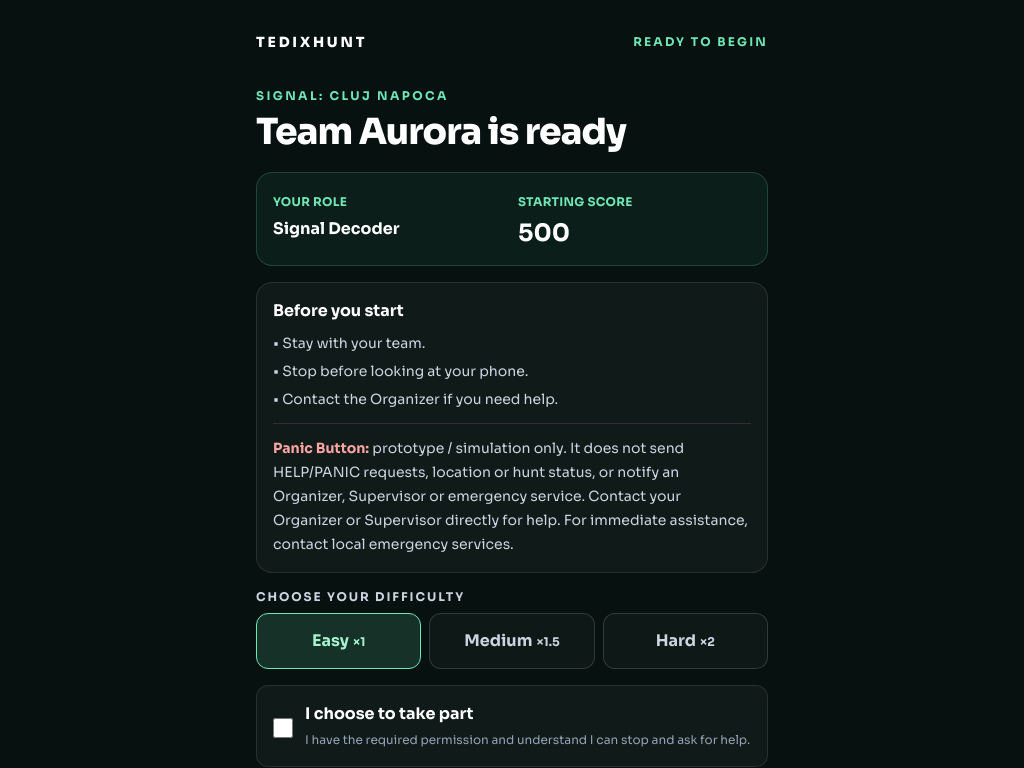
Scenario: readiness gives truthful guidance and still starts the chosen difficulty
Click the button "Hard×2": {"x": 685, "y": 641} [603,613,768,669]
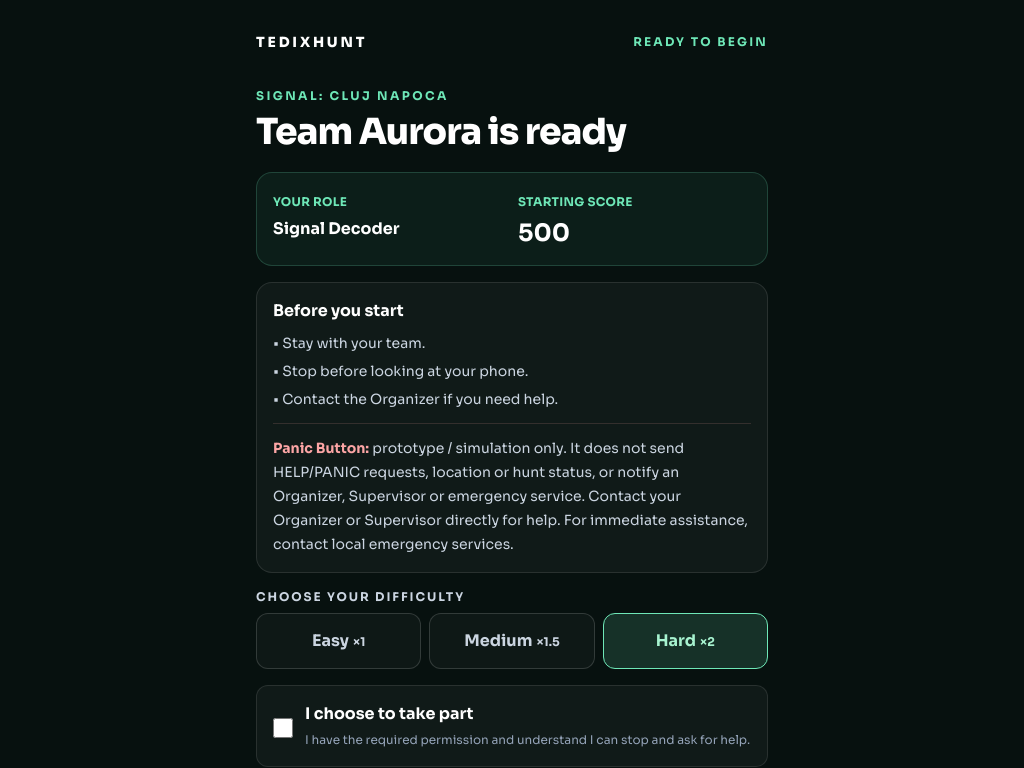
Click the checkbox: {"x": 283, "y": 728} [273,706,293,750]
(page scrolled)
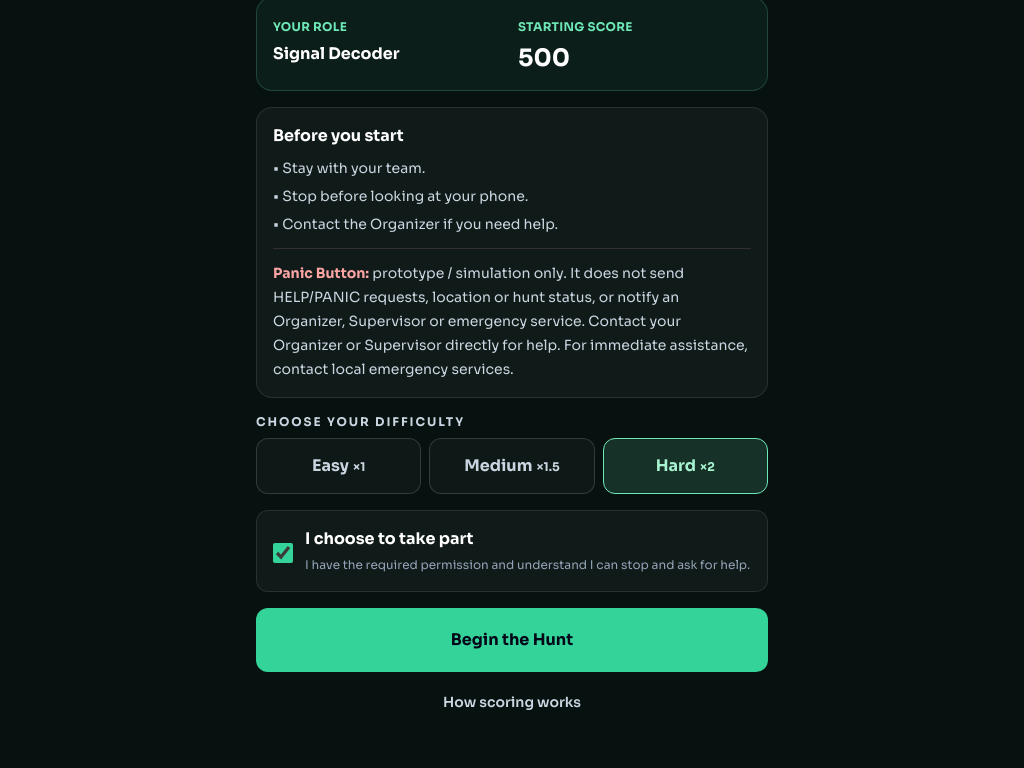
Click the button "Begin the Hunt": {"x": 512, "y": 640} [256,608,768,672]
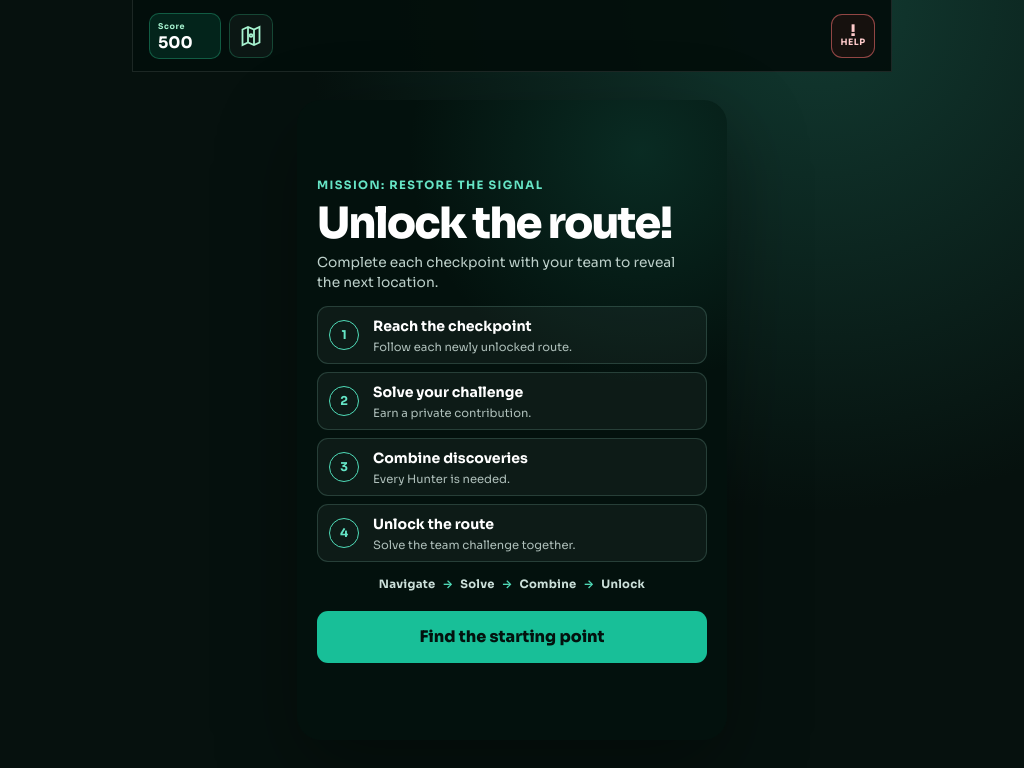
Expected: the button "! Help" is shown
Click the button "! Help": {"x": 853, "y": 36} [831,14,875,58]
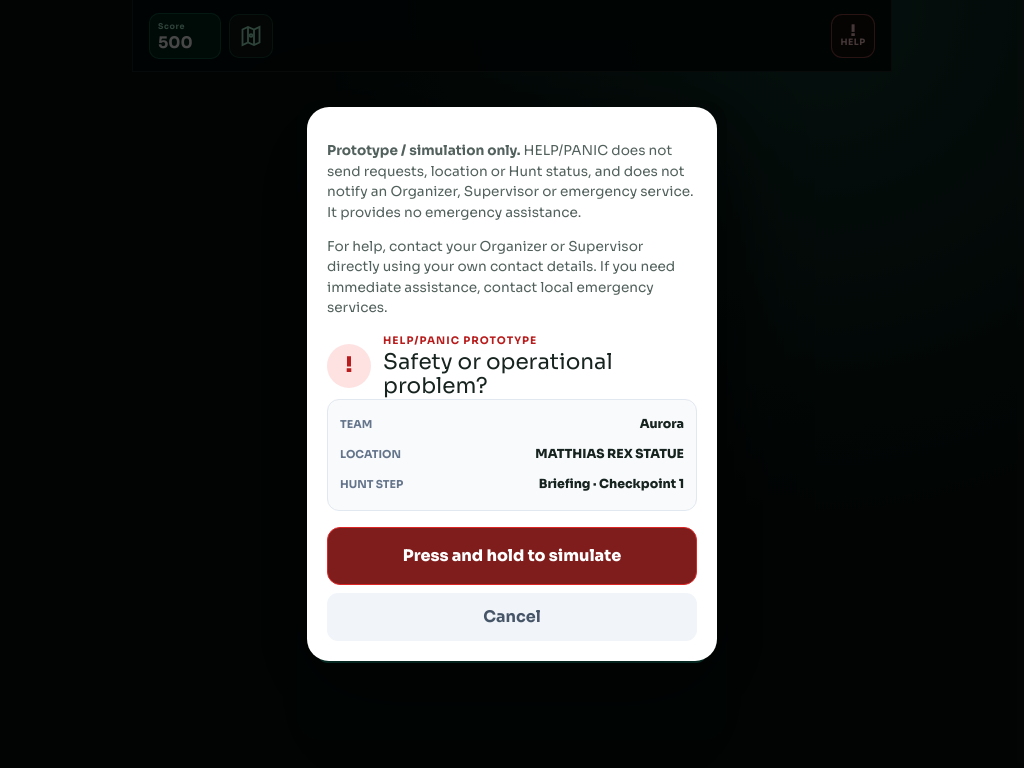
Expected: the text "simulation only" is shown, [327,142,520,160]
Expected: the text "does not notify an Organizer, Supervisor or emergency service" is shown, [327,142,694,221]
Expected: the text "contact your Organizer or Supervisor directly" is shown, [327,238,675,316]
